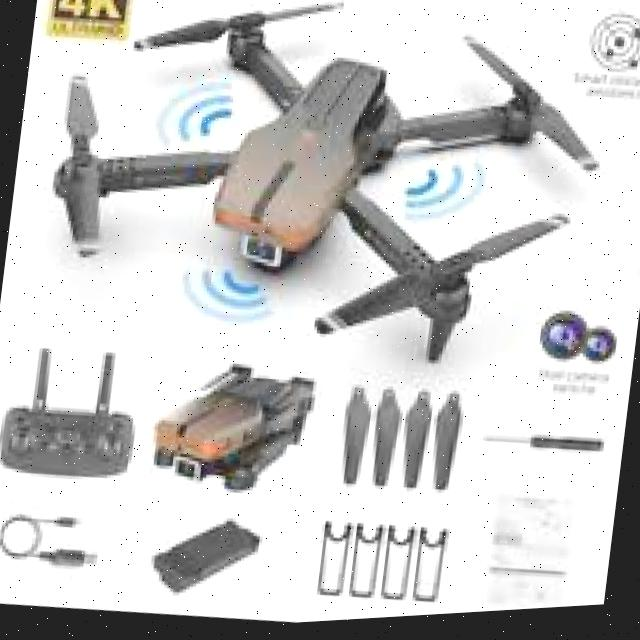drone: (0, 0, 601, 412)
